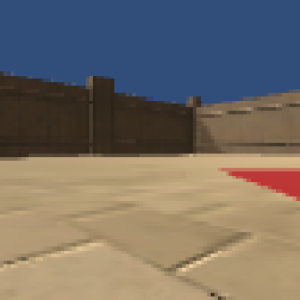deathZone: (218, 161, 300, 210)
